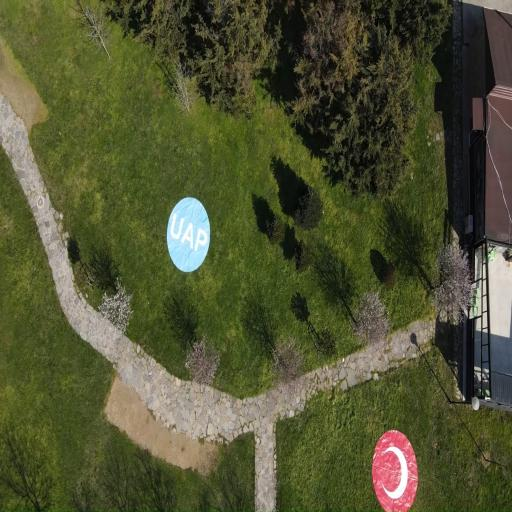UAP: (372, 430, 417, 512)
car: (167, 197, 210, 272)
